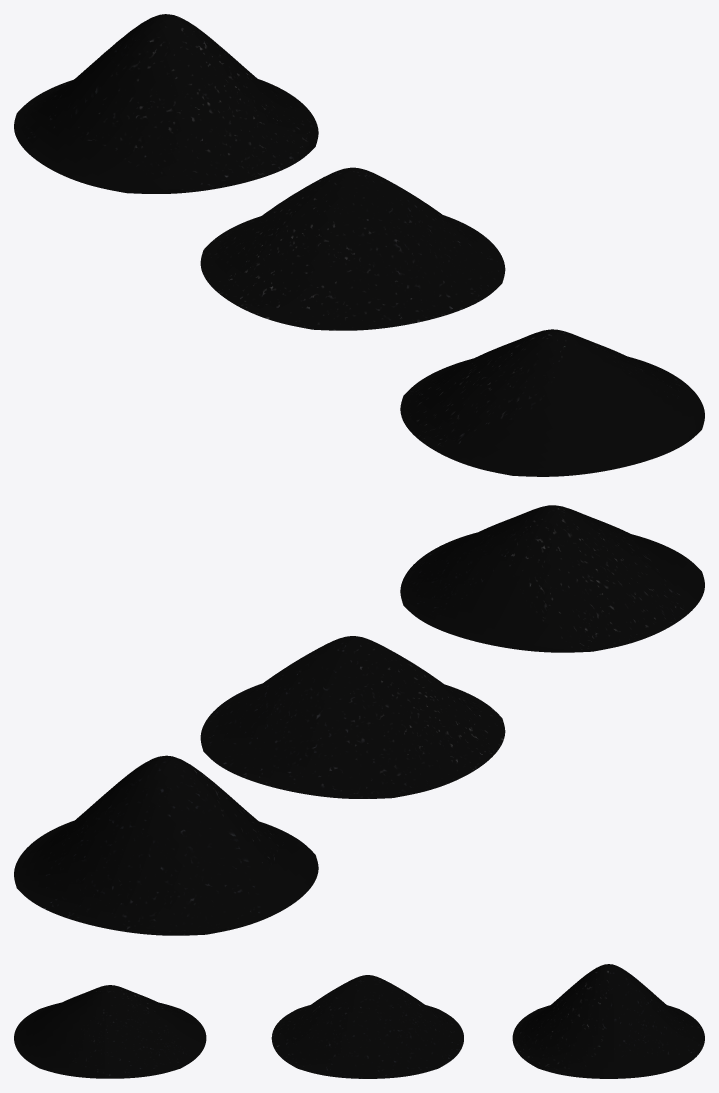
File: coalPiles.glb
3 views of the same model, one above another, from view 1: azimuth 30°, elevation 25°; view 2: azimuth 150°, elevation 25°; view 3: azimuth 270°, elevation 25° (orthographic). The views are drawn at different scales.
Parts seen in each view (by area): view 1: 平面.006, 平面.005, 平面.004; view 2: 平面.006, 平面.005, 平面.004; view 3: 平面.006, 平面.005, 平面.004.
Boxes of the visible parts, bbox=[...] form: 平面.006: bbox=[14, 14, 318, 193]; 平面.005: bbox=[200, 167, 505, 330]; 平面.004: bbox=[400, 329, 704, 476]; 平面.006: bbox=[14, 755, 318, 935]; 平面.005: bbox=[200, 636, 505, 798]; 平面.004: bbox=[400, 505, 704, 652]; 平面.006: bbox=[512, 964, 704, 1078]; 平面.005: bbox=[271, 975, 463, 1078]; 平面.004: bbox=[14, 985, 206, 1078].
Bounding box in the file's own units: 6.02 × 2.53 × 21.63.
Materials: 2 (2 with a texture image).
